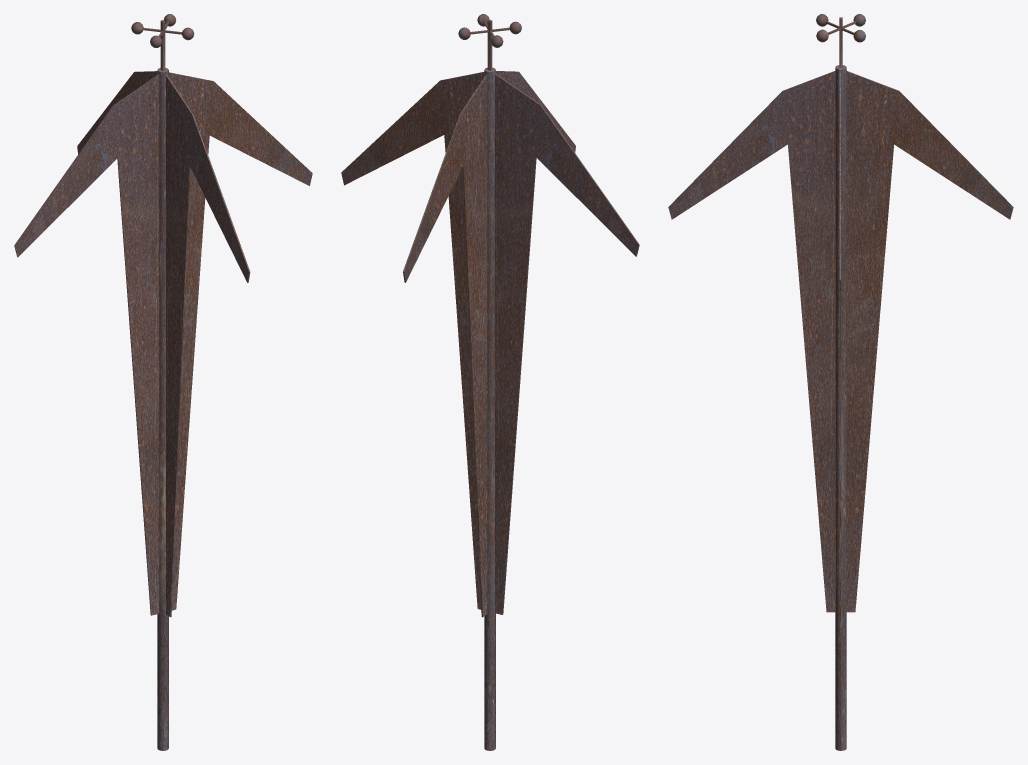
Rendered from designator2.obj.
3 views of the same model, side by side, from view 1: azimuth 30°, elevation 25°; view 2: azimuth 150°, elevation 25°; view 3: azimuth 270°, elevation 25° (orthographic).
Parts seen in each view (by area): view 1: telo1, telo2, tyc; view 2: telo1, telo2, tyc; view 3: telo2, tyc, telo1.
Part boxes in pixels (bbox=[...]): telo1: bbox=[14, 72, 312, 615]; telo2: bbox=[77, 71, 250, 617]; tyc: bbox=[157, 68, 168, 750]; telo1: bbox=[341, 72, 639, 614]; telo2: bbox=[403, 71, 575, 617]; tyc: bbox=[484, 67, 495, 750]; telo2: bbox=[668, 71, 1013, 612]; tyc: bbox=[835, 65, 846, 750]; telo1: bbox=[839, 73, 840, 617].
Bounding box in the file's own units: 1.25 × 2.91 × 1.25.
